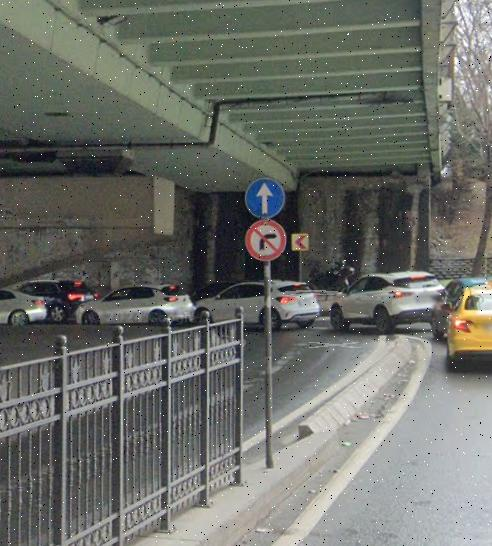forward: (248, 176, 284, 218)
rightturnsareforbidden: (245, 220, 285, 260)
